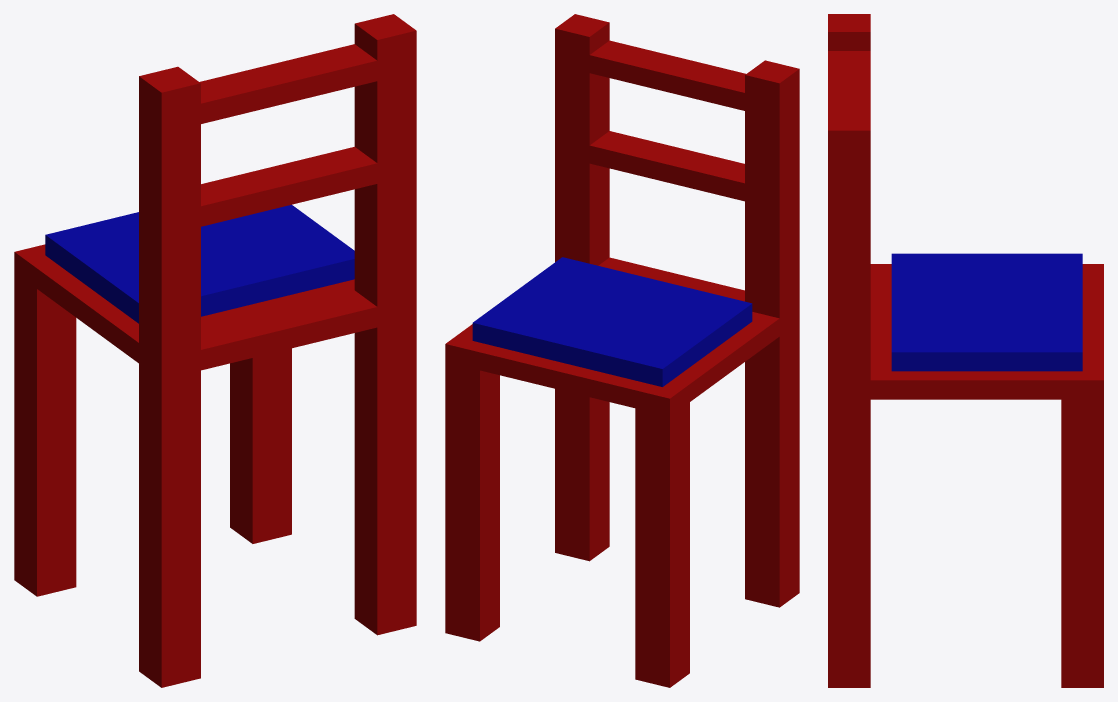
File: Chair.fbx
3 renders of one model, left to right at view 1: azimuth 30°, elevation 25°; view 2: azimuth 150°, elevation 25°; view 3: azimuth 270°, elevation 25°, orthographic. The views are drawn at different scales.
Visible parts, largest first — view 1: Matrix; view 2: Matrix; view 3: Matrix.
Part boxes in pixels (box(x1,y1,x2,y2)): Matrix: box(14, 14, 416, 687); Matrix: box(445, 14, 799, 687); Matrix: box(828, 14, 1103, 687).
Bounding box in the file's own units: 13 × 29 × 13.
